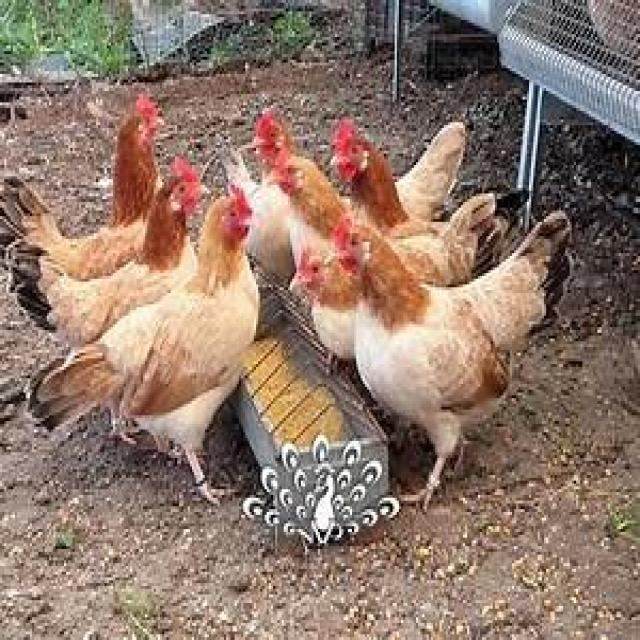hen: (30, 192, 260, 502), (340, 213, 570, 506), (0, 95, 161, 280)
